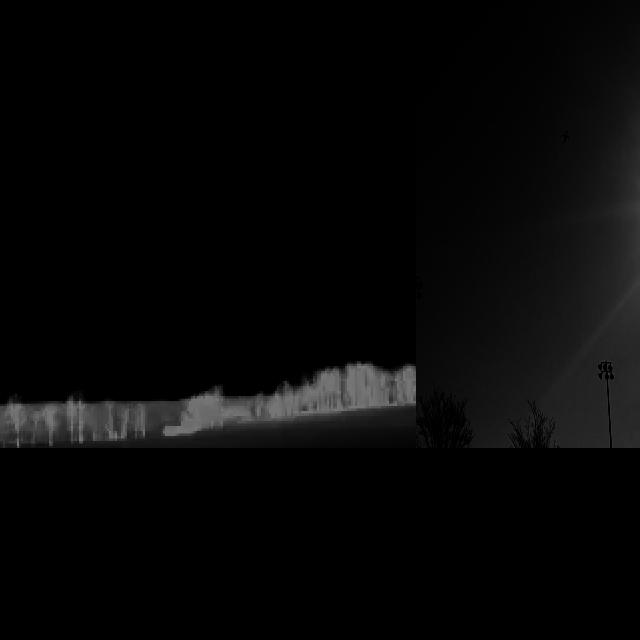drone: (559, 120, 574, 146)
